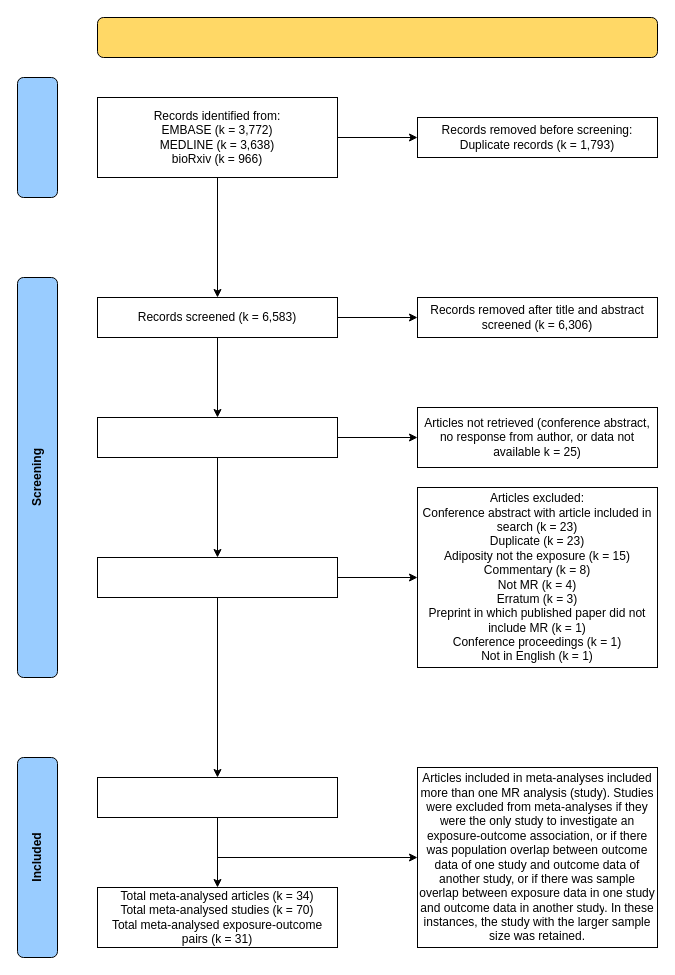
The diagram is 675 pixels wide and 975 high, and some of its shapes have lost their labels. The shapes that lost their labels are listed below. From the top down, each one's centre as x and y in pixels, then its label:
At (377,37): "Identification of new studies via EMBASE, MEDLINE, and bioRxiv".
At (37,137): "Identification".
At (217,437): "Articles sought for retrieval (k = 277)".
At (217,577): "Articles assessed for eligibility (k = 252)".
At (217,797): "Total articles included in review (k = 177)".
